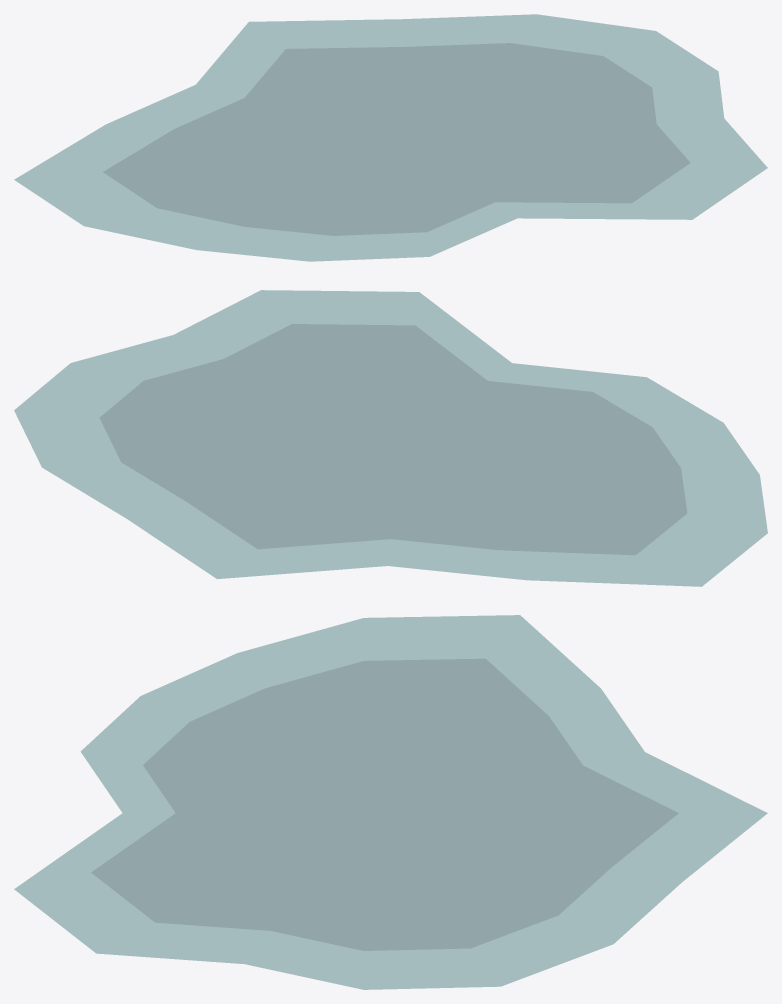
The model's file is water-blob-f266b8.glb.
3 renders of one model, top to bottom at view 1: azimuth 30°, elevation 25°; view 2: azimuth 150°, elevation 25°; view 3: azimuth 270°, elevation 25°, orthographic. The views are drawn at different scales.
Parts seen in each view (by area): view 1: water-blob; view 2: water-blob; view 3: water-blob.
Boxes of the visible parts, <box> form: water-blob: <box>14,14,767,261</box>; water-blob: <box>14,290,767,586</box>; water-blob: <box>14,615,767,989</box>.
Bounding box in the file's own units: 8 × 0.04 × 6.8.
